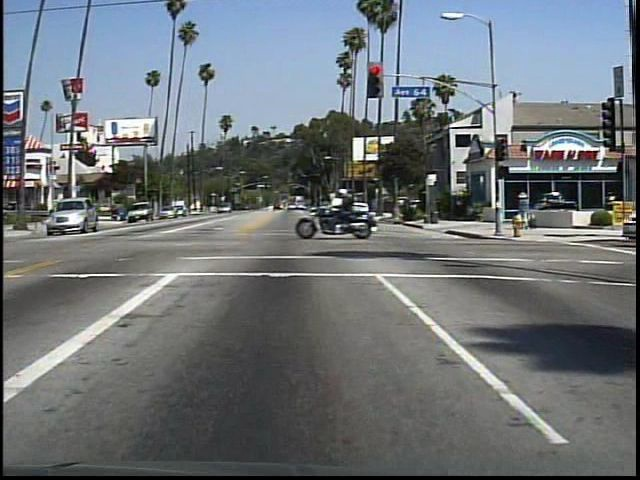person: (332, 187, 365, 237), (513, 186, 536, 218)
